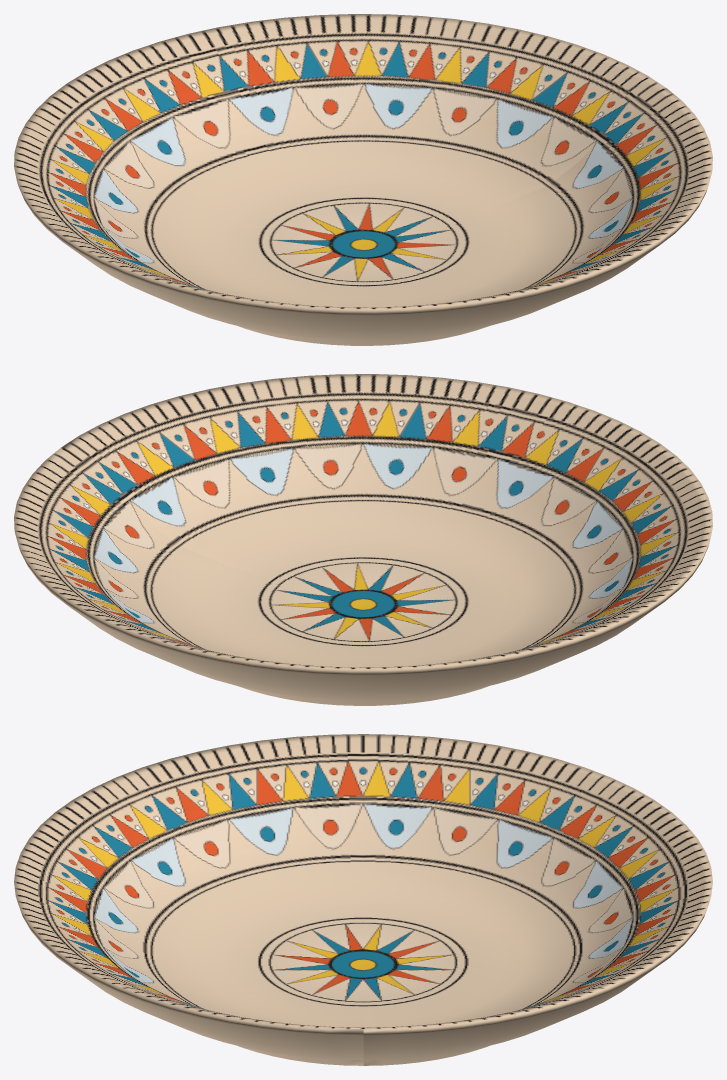
Rendered from 00_Plate_Tebsi_Ceramic.obj.
3 renders of one model, top to bottom at view 1: azimuth 30°, elevation 25°; view 2: azimuth 150°, elevation 25°; view 3: azimuth 270°, elevation 25°, orthographic.
Visible parts, largest first — view 1: 00_Plate_Tebsi_Ceramic; view 2: 00_Plate_Tebsi_Ceramic; view 3: 00_Plate_Tebsi_Ceramic.
Part boxes in pixels (box(x1,y1,x2,y2)): 00_Plate_Tebsi_Ceramic: box(14, 14, 712, 345); 00_Plate_Tebsi_Ceramic: box(14, 374, 712, 705); 00_Plate_Tebsi_Ceramic: box(14, 734, 712, 1065).
Size of the model in its own units: 0.32 by 0.052 by 0.32.
1 material, 1 textured.
